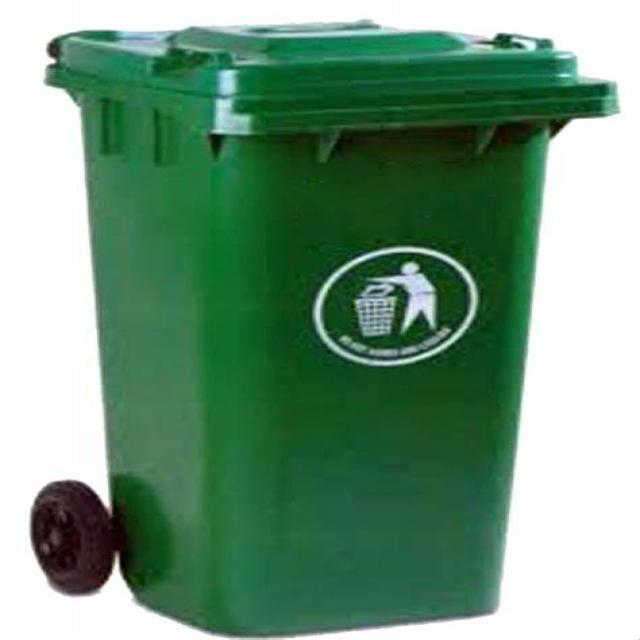garbage container: (32, 24, 607, 640)
